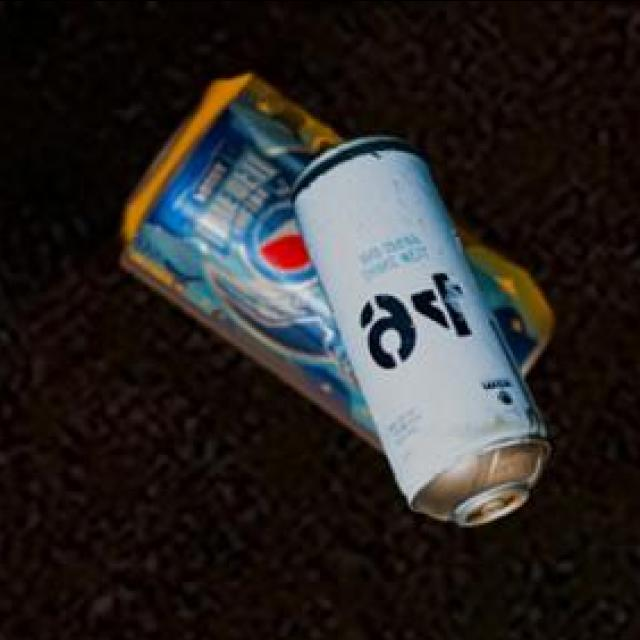logam: (119, 71, 548, 446), (287, 133, 546, 521)
